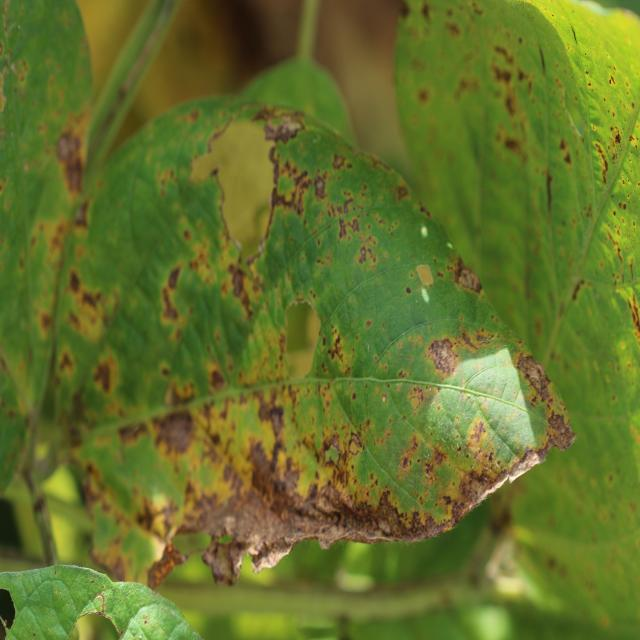Bacterial_Blight: (242, 435, 314, 528), (324, 479, 420, 546), (180, 474, 244, 548), (396, 428, 443, 486), (157, 395, 194, 456), (56, 127, 86, 197), (515, 353, 552, 397), (455, 468, 491, 509), (134, 496, 173, 533), (426, 337, 461, 376), (545, 409, 578, 450), (226, 262, 253, 312), (262, 116, 303, 145), (255, 390, 284, 430), (92, 354, 118, 396), (186, 244, 213, 282), (455, 263, 482, 294), (170, 379, 198, 406), (326, 330, 345, 363), (593, 140, 609, 179), (337, 214, 359, 242), (468, 418, 488, 444), (208, 365, 227, 392), (493, 63, 513, 86), (58, 349, 74, 376), (632, 291, 640, 345), (277, 175, 294, 199), (331, 152, 352, 171), (347, 434, 363, 457), (503, 136, 521, 155), (68, 270, 82, 294), (167, 265, 181, 289), (571, 279, 586, 301), (314, 176, 326, 198), (409, 394, 422, 411), (417, 88, 430, 103), (613, 129, 622, 147), (401, 457, 411, 470), (629, 134, 638, 145), (618, 201, 627, 210), (142, 614, 148, 625), (366, 319, 373, 328), (609, 75, 615, 85), (406, 286, 412, 295)
Soybean: (58, 101, 575, 589)
